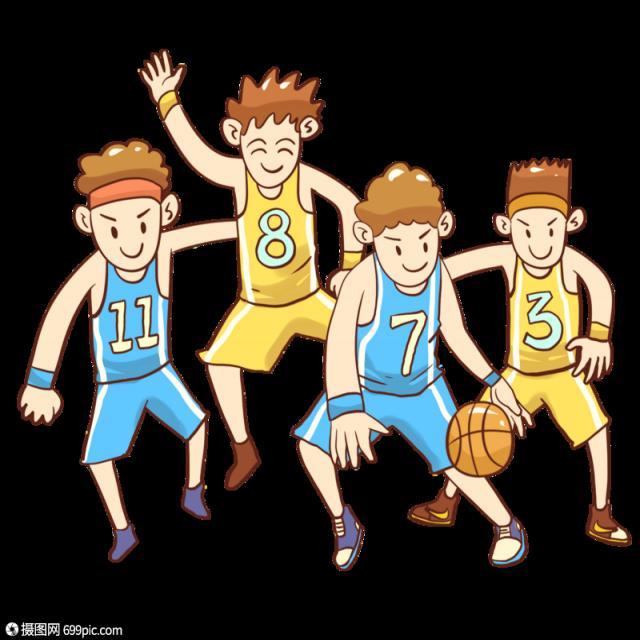rim: (444, 404, 518, 476)
